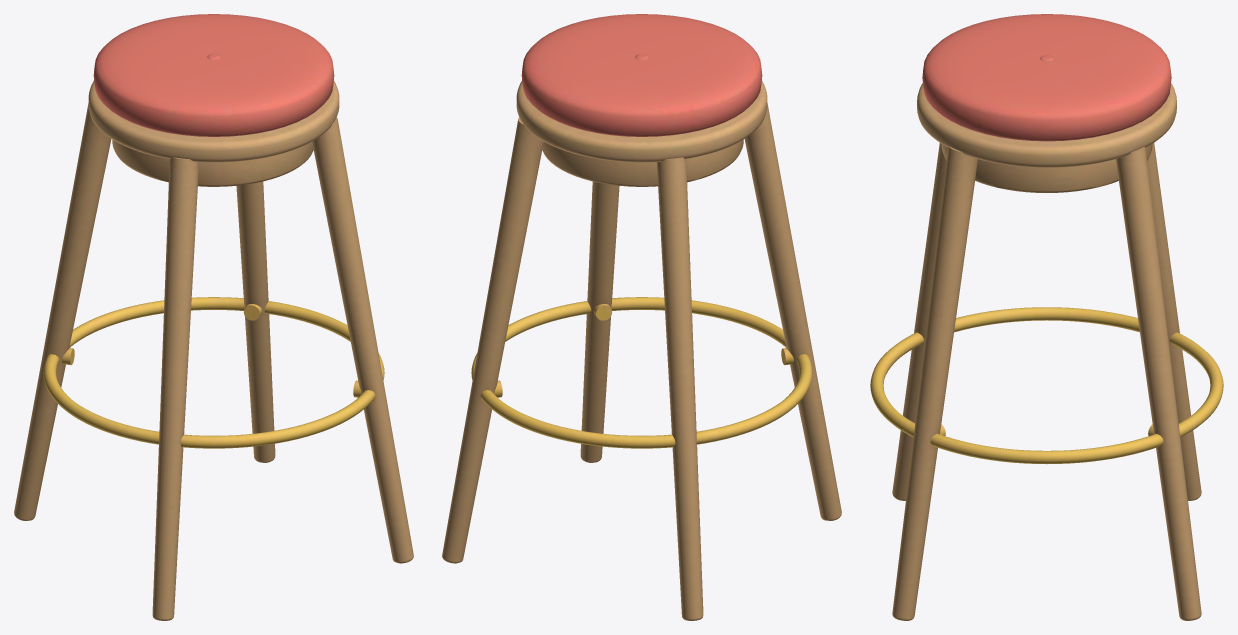
The model's file is bar-stool.glb.
3 views of the same model, side by side, from view 1: azimuth 30°, elevation 25°; view 2: azimuth 150°, elevation 25°; view 3: azimuth 270°, elevation 25° (orthographic). The views are drawn at different scales.
Visible parts, largest first — view 1: bar-stool_body; view 2: bar-stool_body; view 3: bar-stool_body.
Part boxes in pixels (left/top/right/bottom): bar-stool_body: left=14, top=14, right=413, bottom=620; bar-stool_body: left=442, top=14, right=841, bottom=620; bar-stool_body: left=870, top=14, right=1223, bottom=620.
Size of the model in its own units: 0.5032 by 0.7855 by 0.5032.
1 material, 1 textured.
